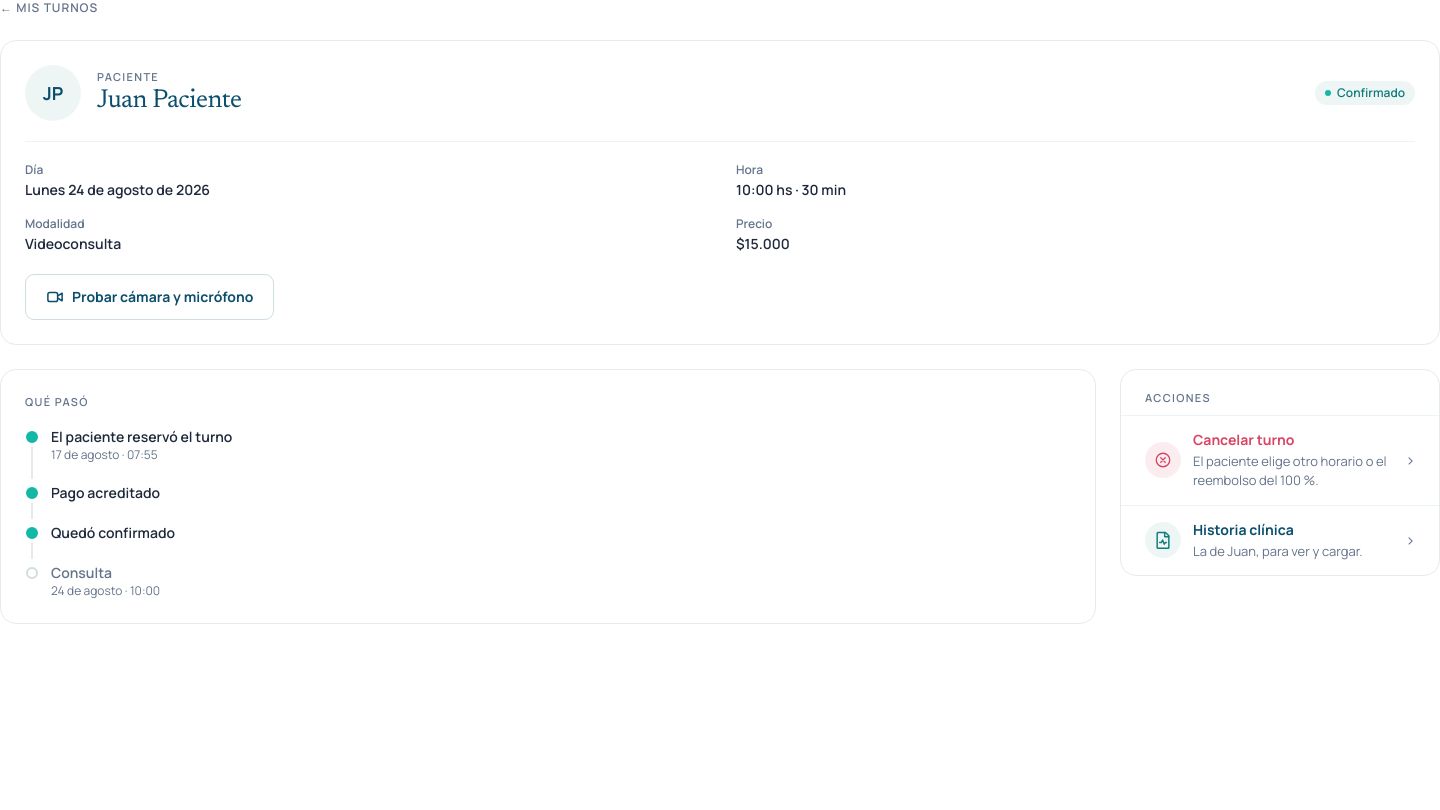
AppointmentDetail (ENG-178) › el profesional cancela un turno (ENG-204) › pide el motivo, avisa qué le pasa al paciente y lo manda al backend
Click the button "Cancelar turno": (1280,460) [1121,416,1439,504]
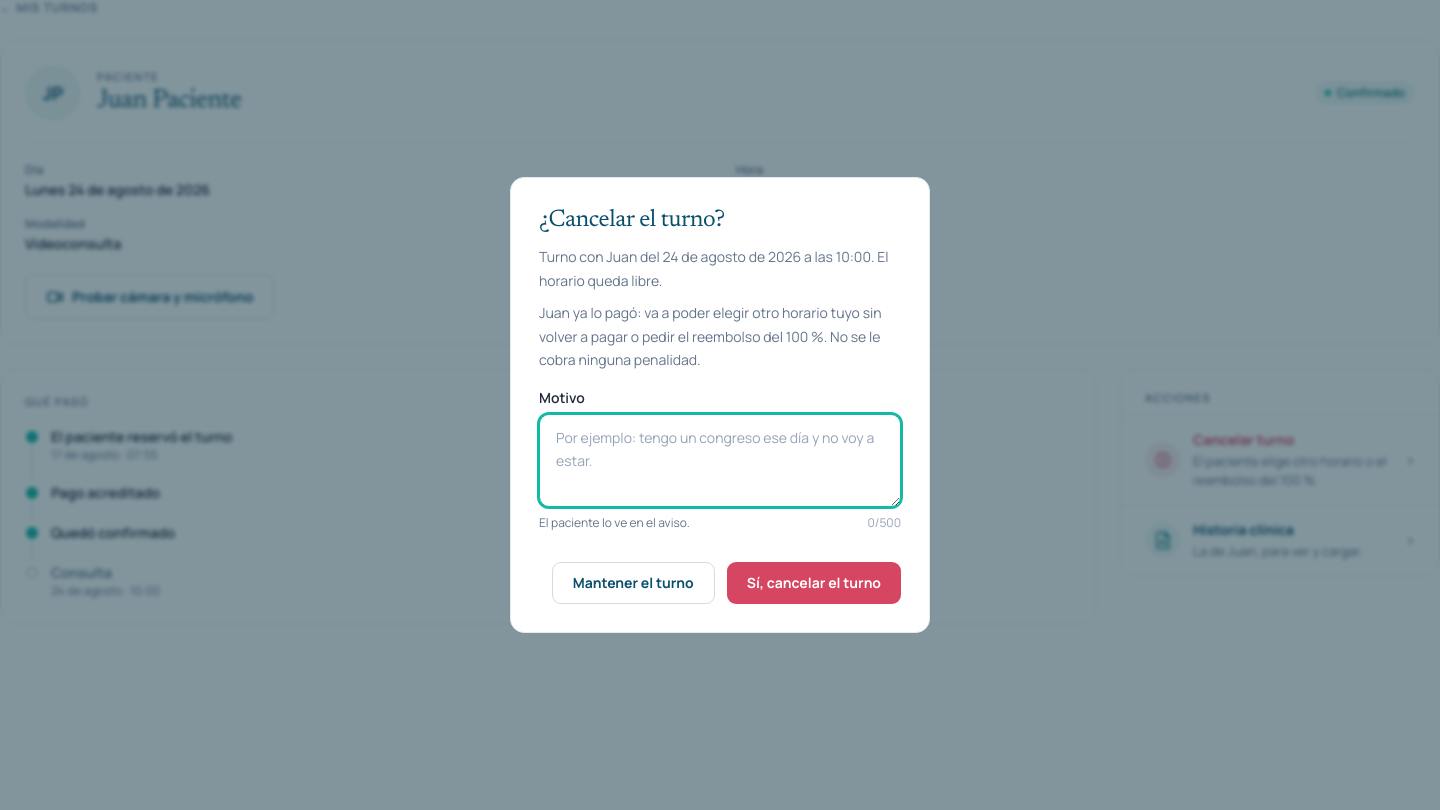
Expected: the text "reembolso del 100 %" is shown, [539,303,882,369]
# Sin motivo no se manda nada.
Click the button "Sí, cancelar el turno": (814,583) [727,562,901,604]
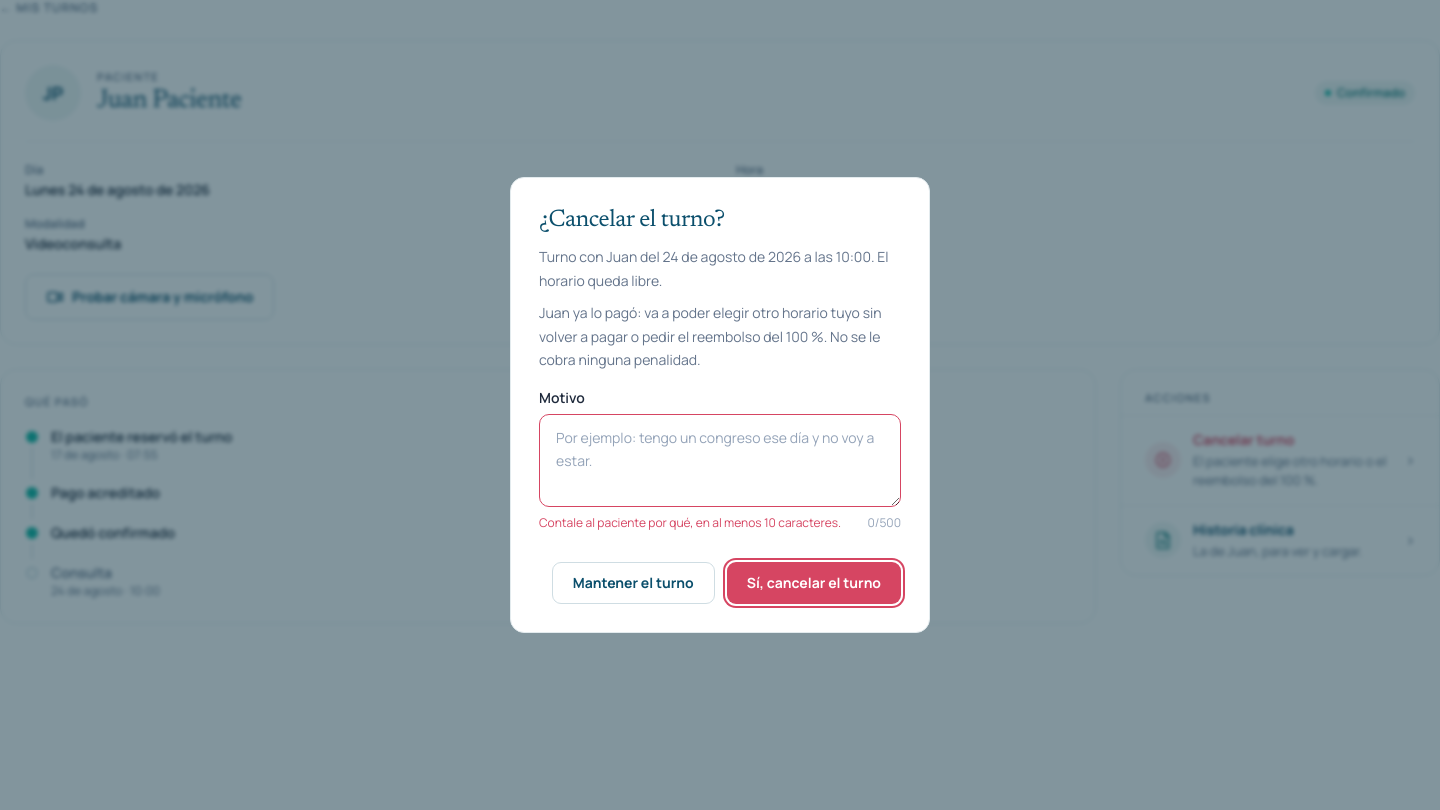
Expected: the text "Contale al paciente por qué, en al menos 10 caracteres." is shown, [539,513,841,534]
In the text box labelled "Motivo": (720,461) [539,414,901,507], type "  Tengo un congreso ese día.  "
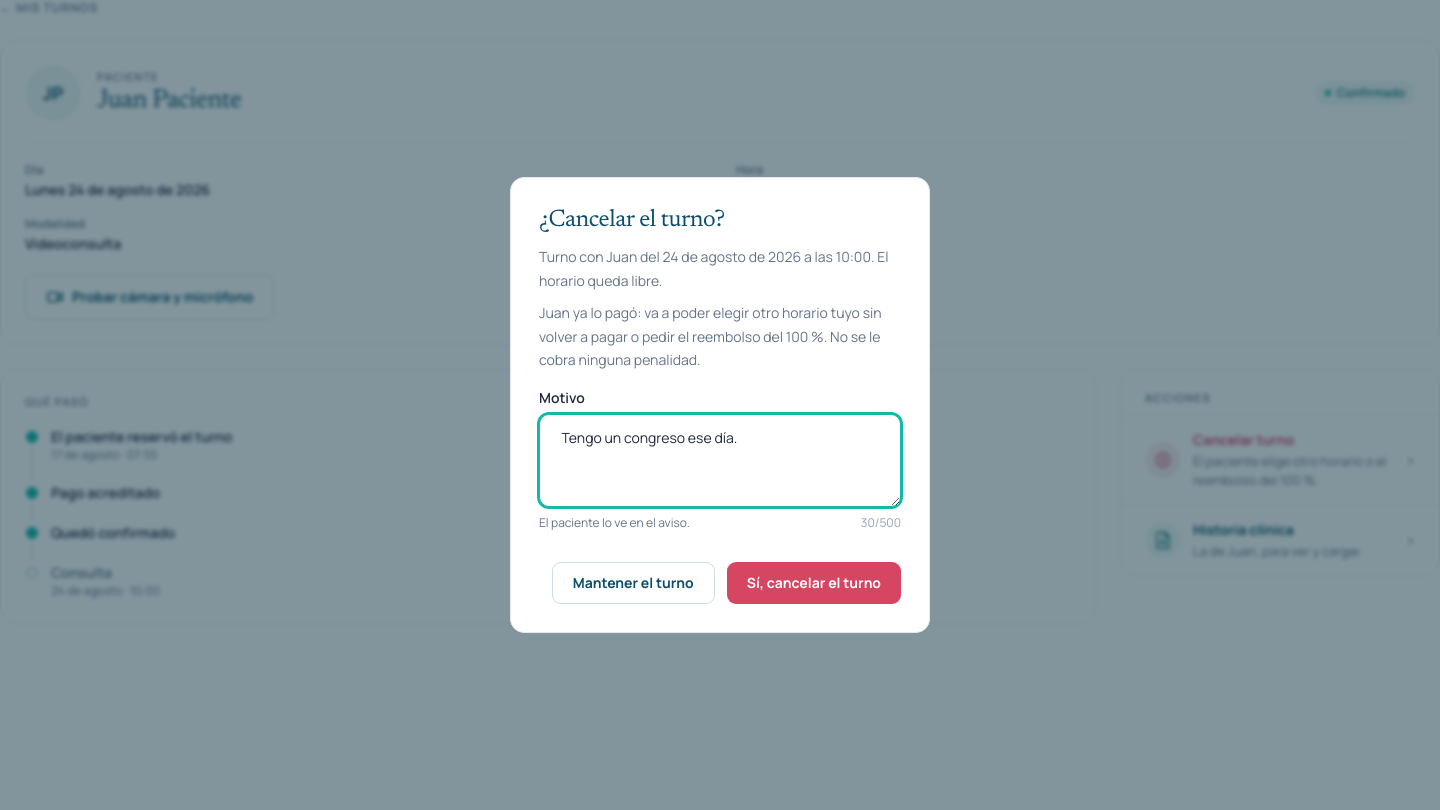
Click the button "Sí, cancelar el turno": (814,583) [727,562,901,604]
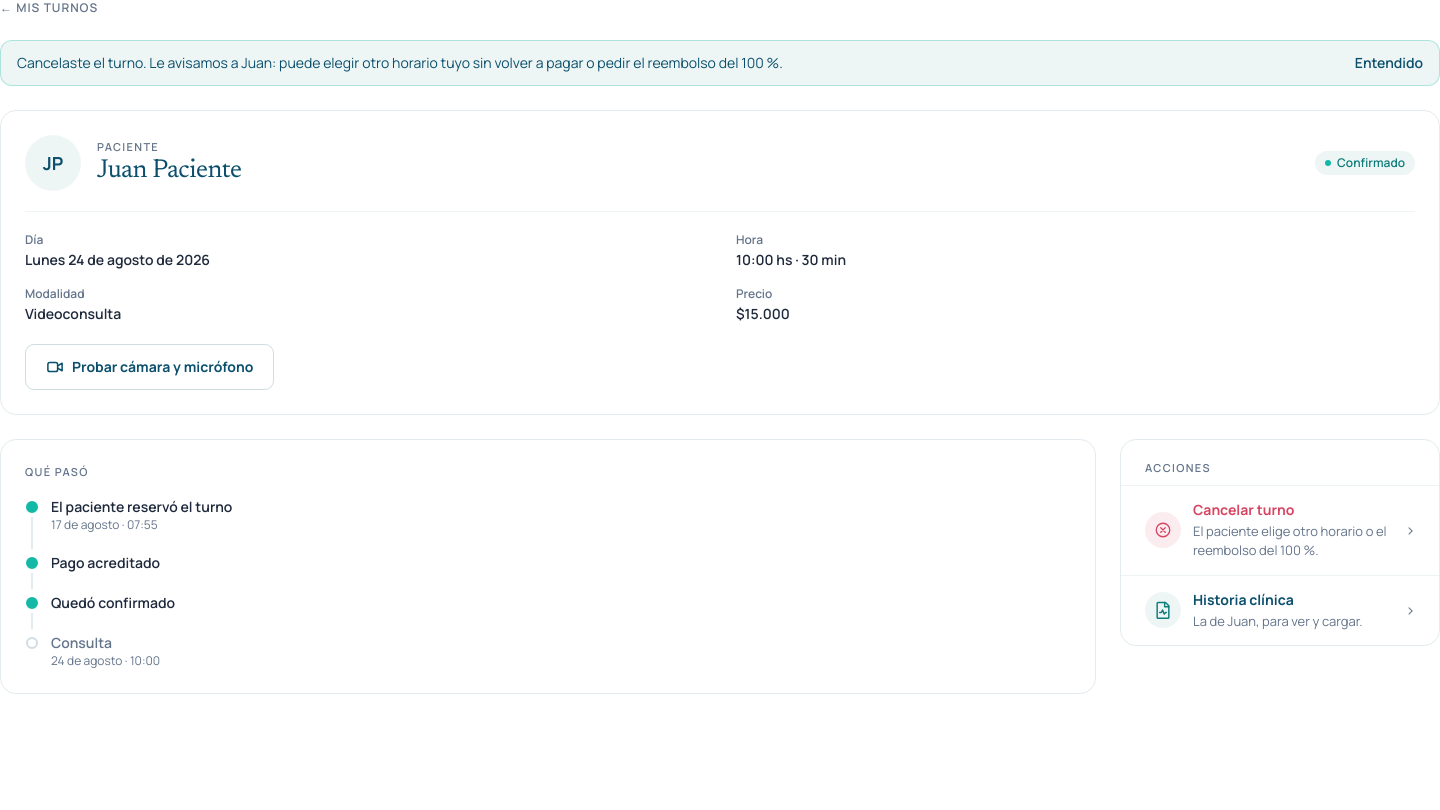
Expected: the text "Le avisamos a Juan" is shown, [17,53,783,72]
